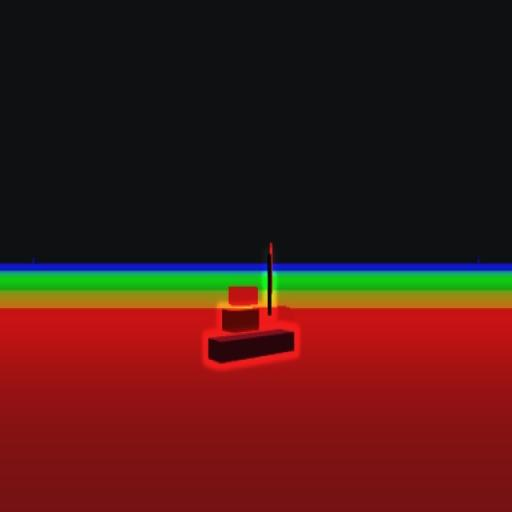fishing_boat: (208, 251, 295, 366)
